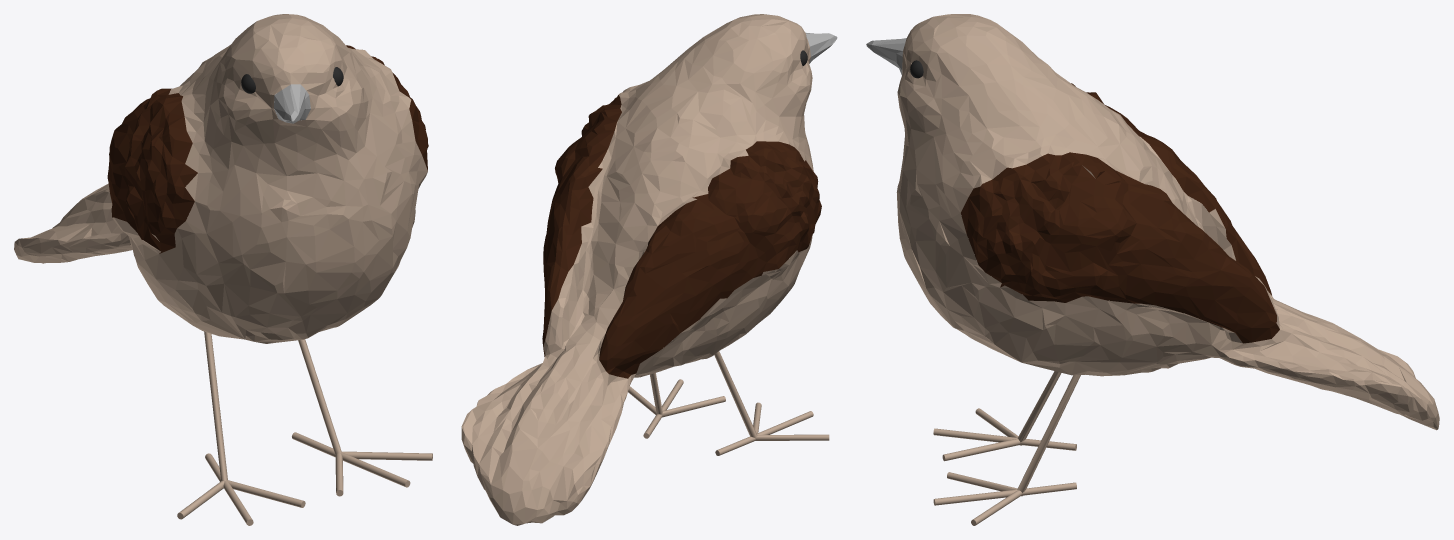
Rendered from 0eT216MLaus.glb.
The picture shows the model from 3 angles, left to right: view 1: azimuth 30°, elevation 25°; view 2: azimuth 150°, elevation 25°; view 3: azimuth 270°, elevation 25°; orthographic projection. The views are drawn at different scales.
Parts seen in each view (by area): view 1: Line006, Sparrow001; view 2: Line006, Sparrow001; view 3: Line006, Sparrow001.
Boxes of the visible parts, box(x1,y1,x2,y2) form: Line006: box(14, 14, 432, 525); Sparrow001: box(107, 45, 428, 253); Line006: box(461, 14, 829, 525); Sparrow001: box(542, 32, 837, 378); Line006: box(896, 14, 1439, 525); Sparrow001: box(866, 38, 1279, 343).
Size of the model in its own units: 0.6217 by 1 by 1.19.
